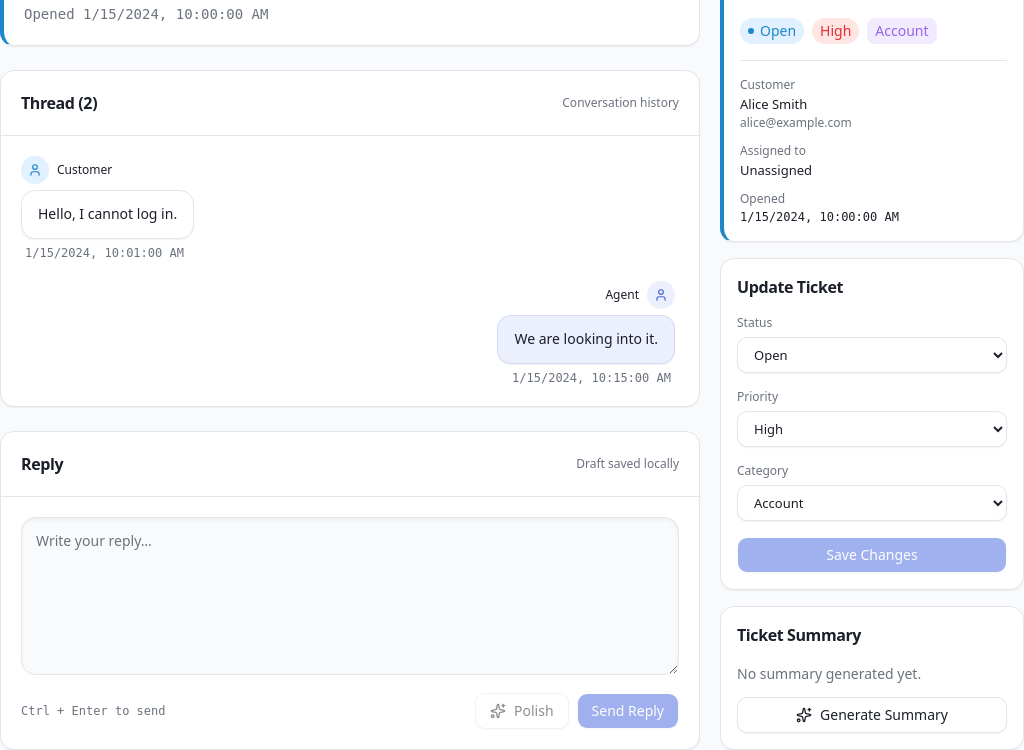
Scenario: TicketDetail page › Polish success replaces textarea content with the polished text
The image size is (1024, 750).
(page scrolled)
Type "rough draft" into the text box with placeholder "Write your reply…" at (350, 596), box 21,516 -> 679,674
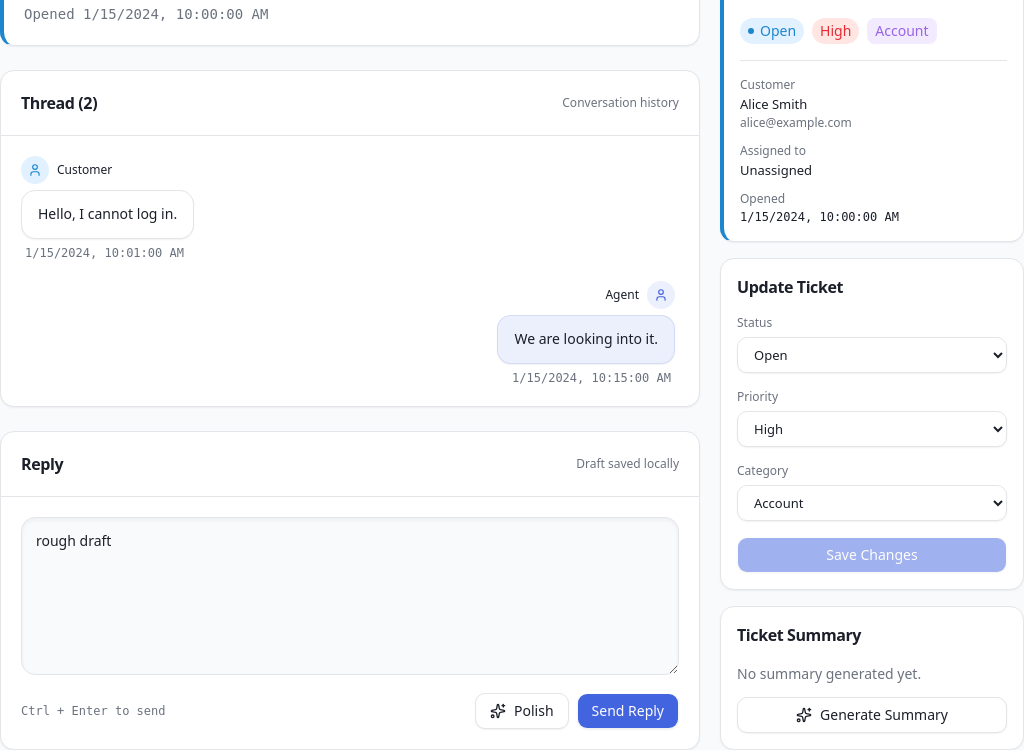
Click the button "Polish" at (522, 710), box 475,692 -> 568,728
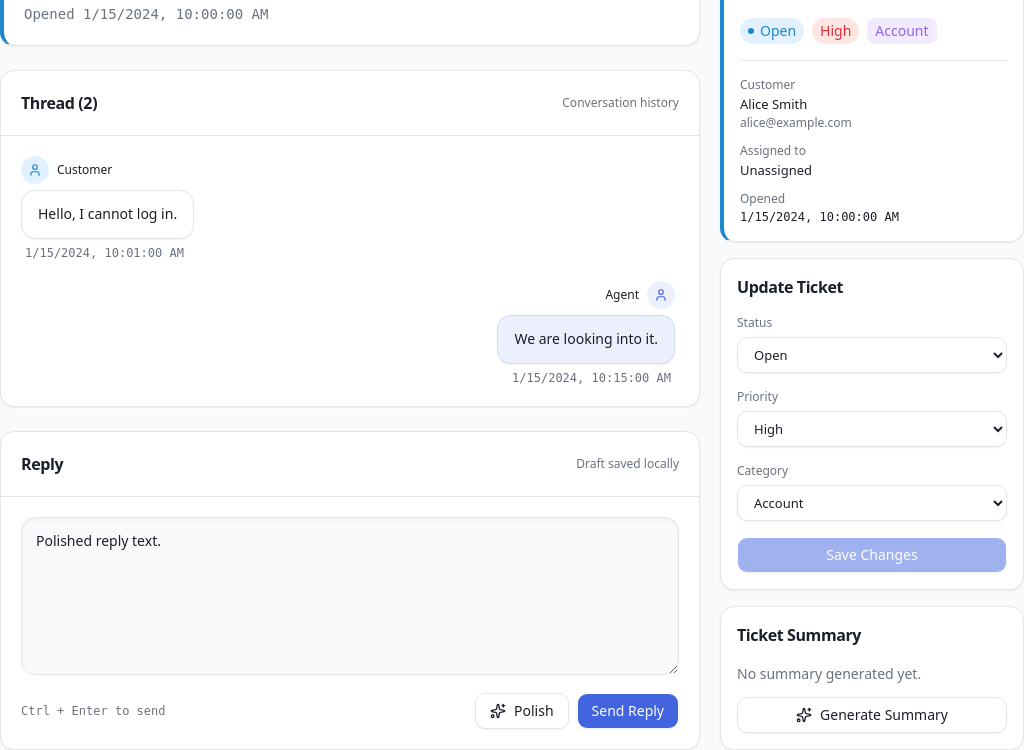
Check: the text box with placeholder "Write your reply…" holds "Polished reply text.", box 21,516 -> 679,674
